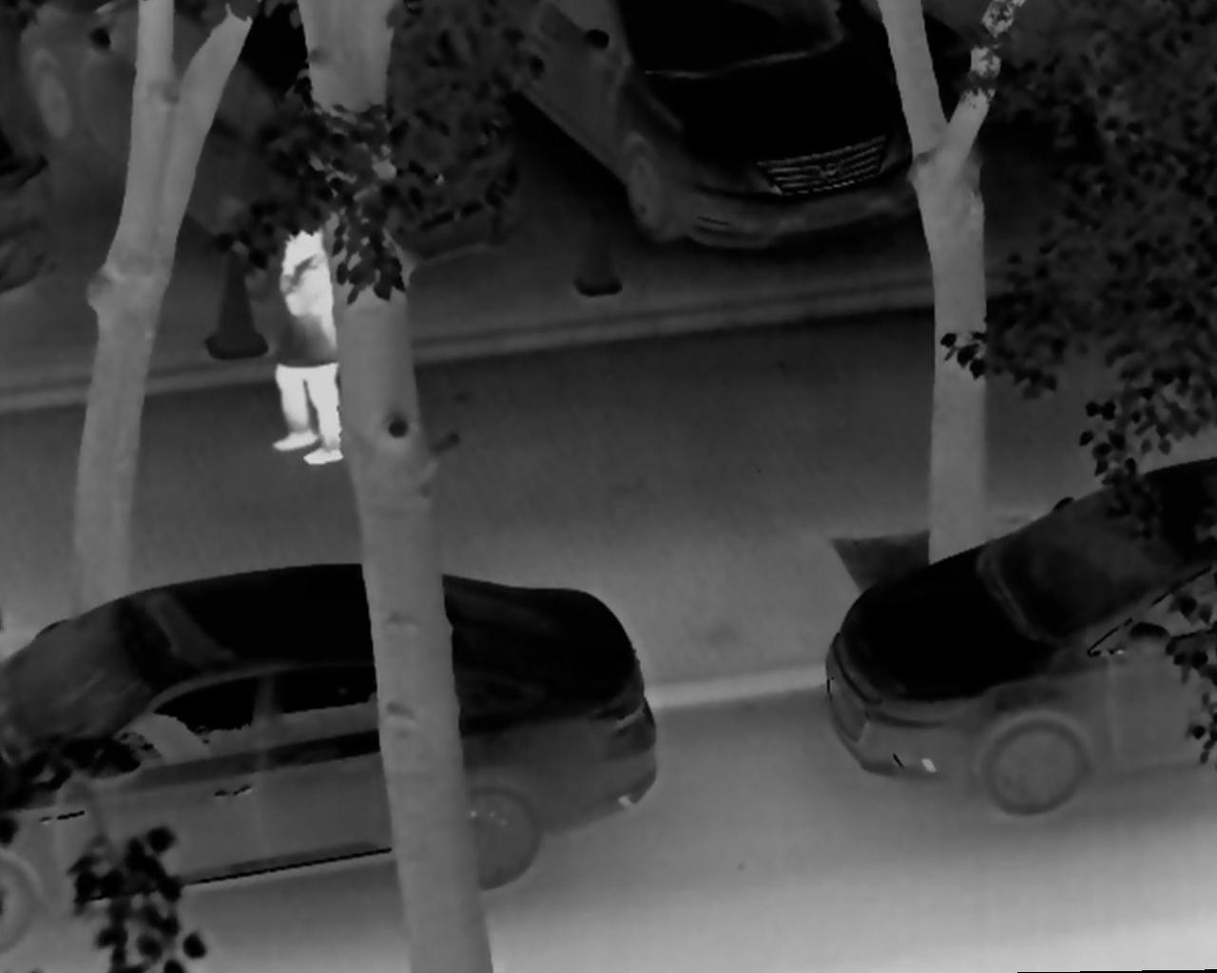person: (255, 204, 355, 469)
